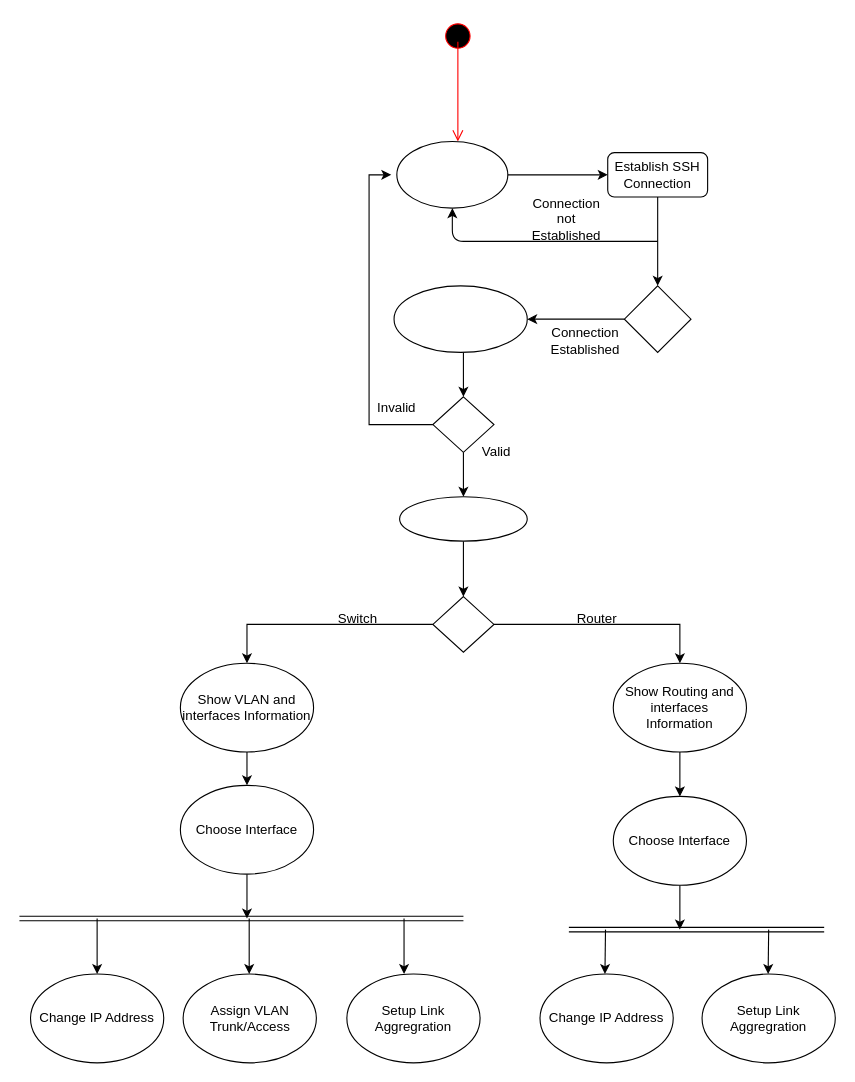
Image size: 855x1082. Some labels were removed from this diagram. The centre of each missing label's shape, as x and y in pixels:
"Authentication" belongs at (x=460, y=318).
"Check Device Type" belongs at (x=462, y=518).
"Device Login" belongs at (x=452, y=174).
